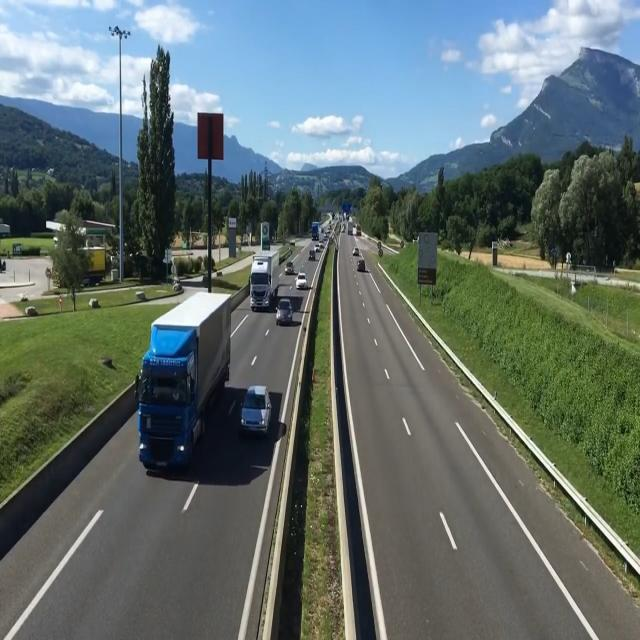car: (240, 382, 272, 437), (276, 300, 291, 328), (294, 273, 308, 293), (284, 258, 295, 278), (356, 256, 368, 274), (305, 248, 317, 265)
truck: (134, 293, 213, 479), (248, 251, 278, 313)
